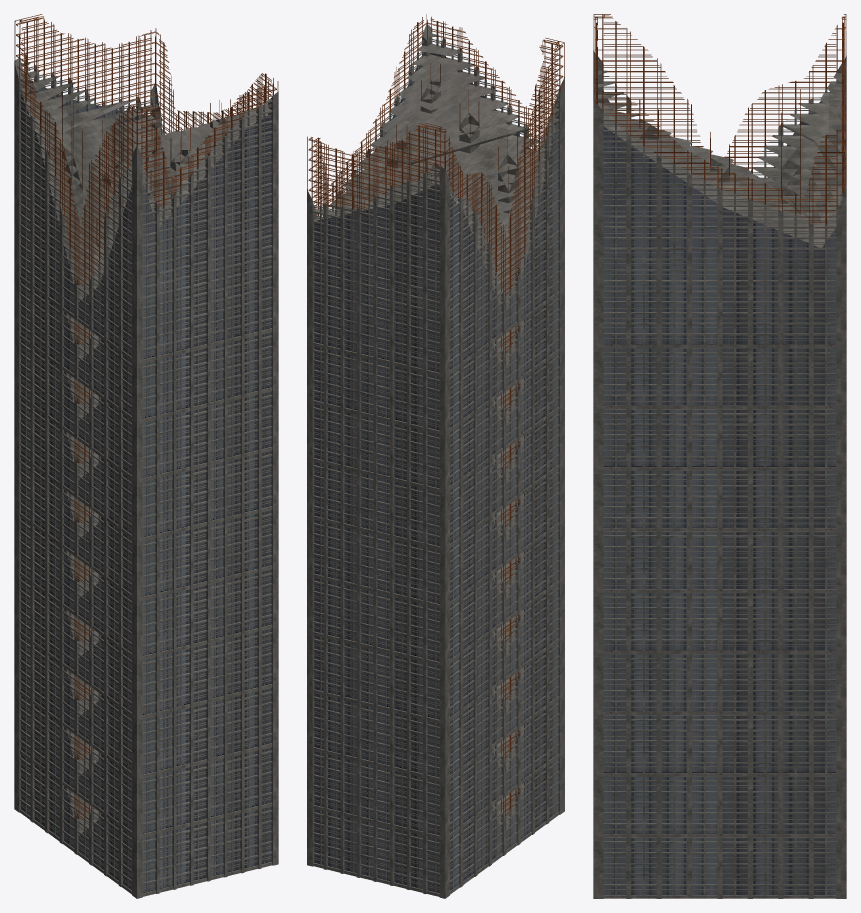
Rendered from building_02.glb.
The picture shows the model from 3 angles, left to right: view 1: azimuth 30°, elevation 25°; view 2: azimuth 150°, elevation 25°; view 3: azimuth 270°, elevation 25°; orthographic projection. The views are drawn at different scales.
Parts seen in each view (by area): view 1: Building 02; view 2: Building 02; view 3: Building 02.
Boxes of the visible parts, x1,y1,x2,y2 form: Building 02: (14,14,278,898); Building 02: (307,14,564,898); Building 02: (593,14,846,898).
Size of the model in its own units: 50 by 266 by 75.
Materials: 3 (3 with a texture image).
